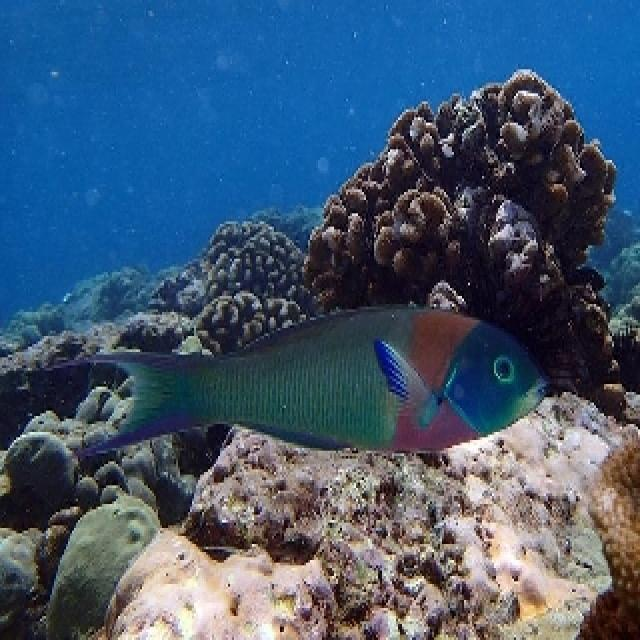fish: (92, 305, 550, 456)
reefs: (301, 71, 628, 422), (192, 221, 307, 347)
sea-floor: (91, 396, 637, 637)
